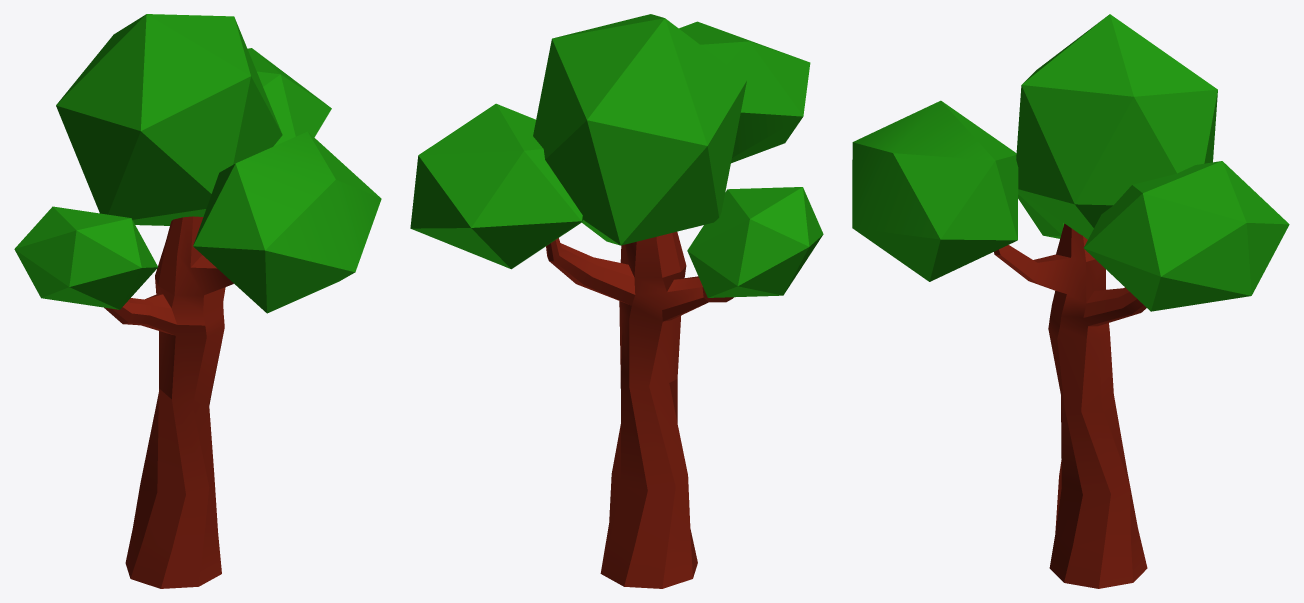
File: tree1.glb
3 views of the same model, side by side, from view 1: azimuth 30°, elevation 25°; view 2: azimuth 150°, elevation 25°; view 3: azimuth 270°, elevation 25° (orthographic). The views are drawn at different scales.
Parts seen in each view (by area): view 1: Cube; view 2: Cube; view 3: Cube.
Part boxes in pixels (x1,y1,x2,y2): Cube: (14,14,381,588); Cube: (410,14,823,588); Cube: (852,14,1289,588).
Bounding box in the file's own units: 5.21 × 7.92 × 5.77.
1 material, 1 textured.
